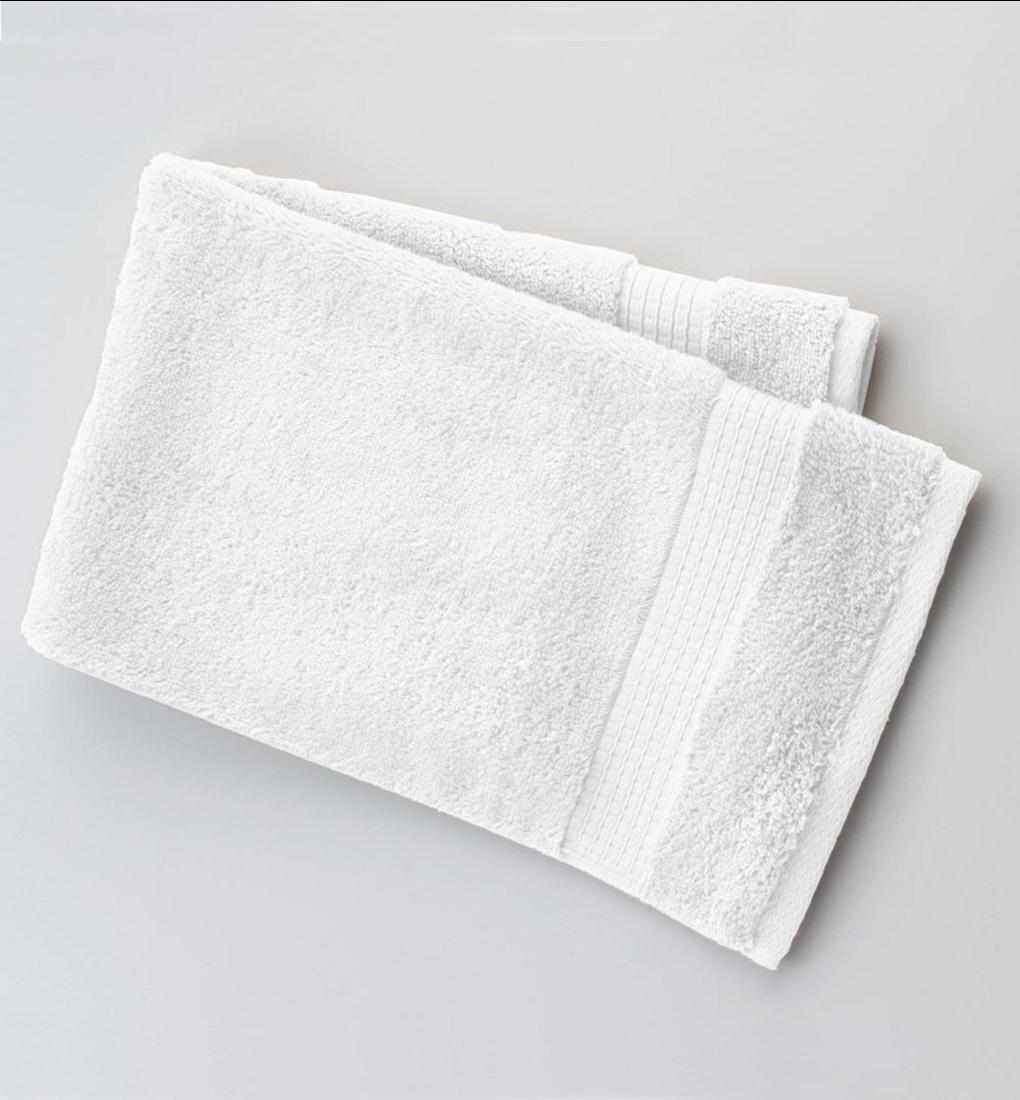towel: (18, 95, 925, 950)
